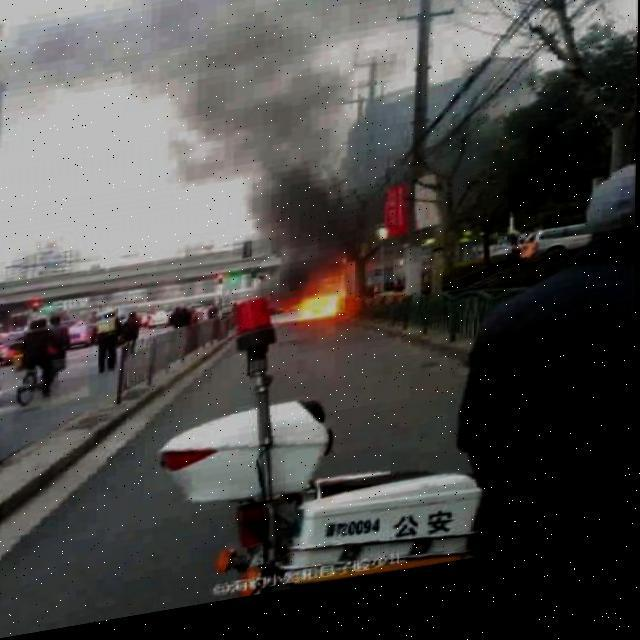Fire: (294, 286, 356, 336)
